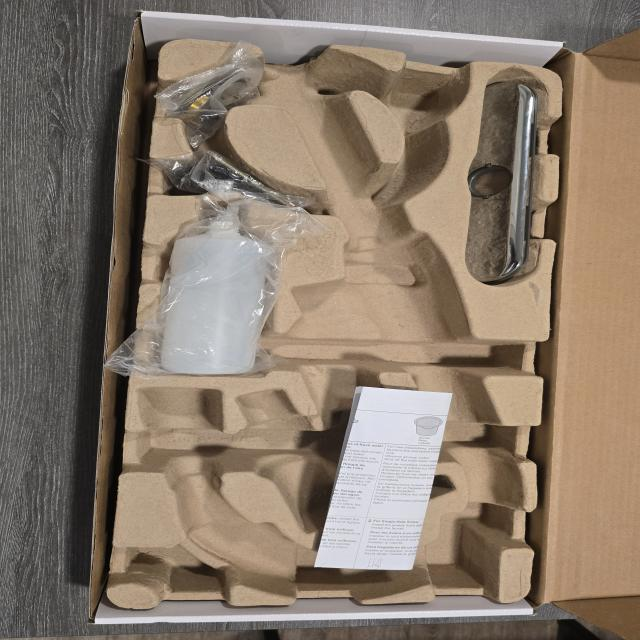1m: (136, 46, 518, 602)
2m: (237, 388, 451, 533)
3: (158, 204, 277, 376)
4: (464, 80, 540, 285)
5m: (383, 77, 462, 129)
6: (155, 41, 267, 145)
7: (137, 149, 300, 206)
8: (313, 385, 453, 572)
